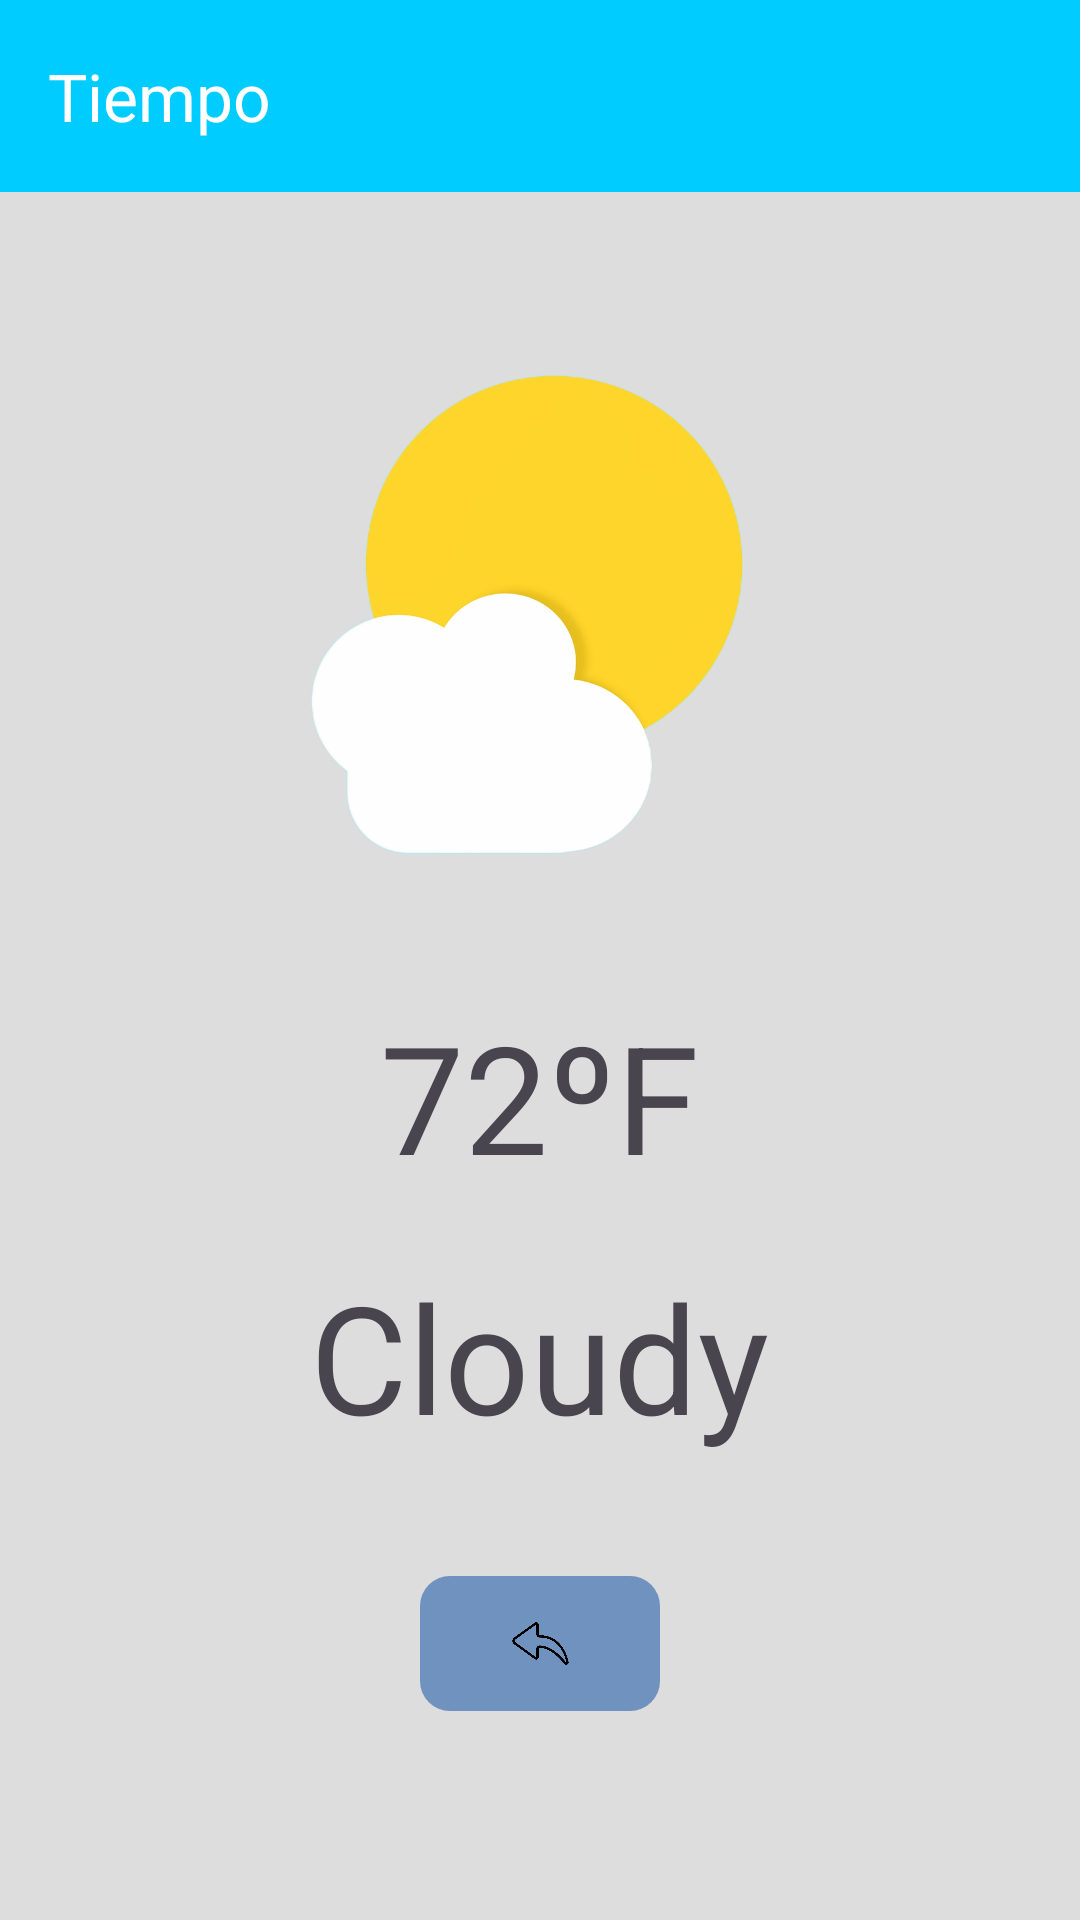

Where icons sit on this 1080*1920 app screen, as (x1, y1, x2, y2):
flechavolveratras: (420, 1576, 660, 1711)
